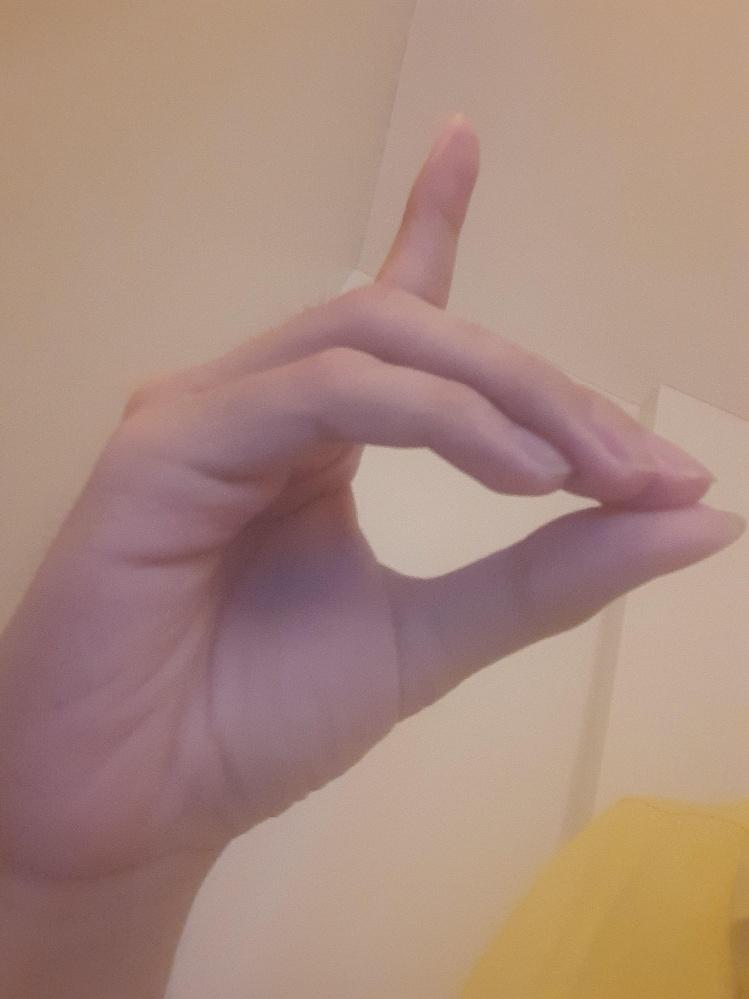d: (45, 113, 742, 842)
